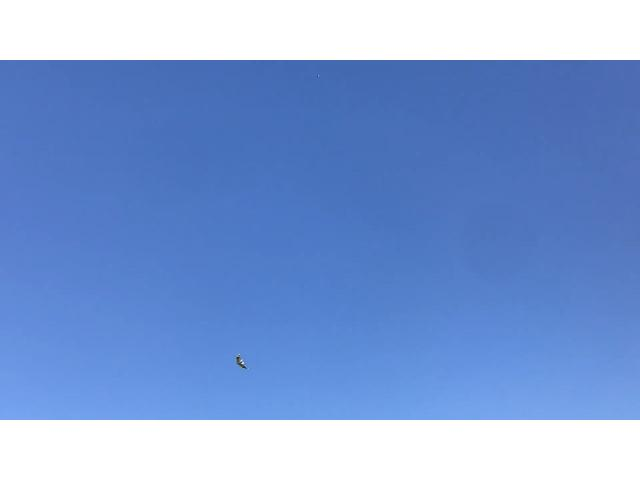Anti-Drone: (228, 338, 270, 390)
